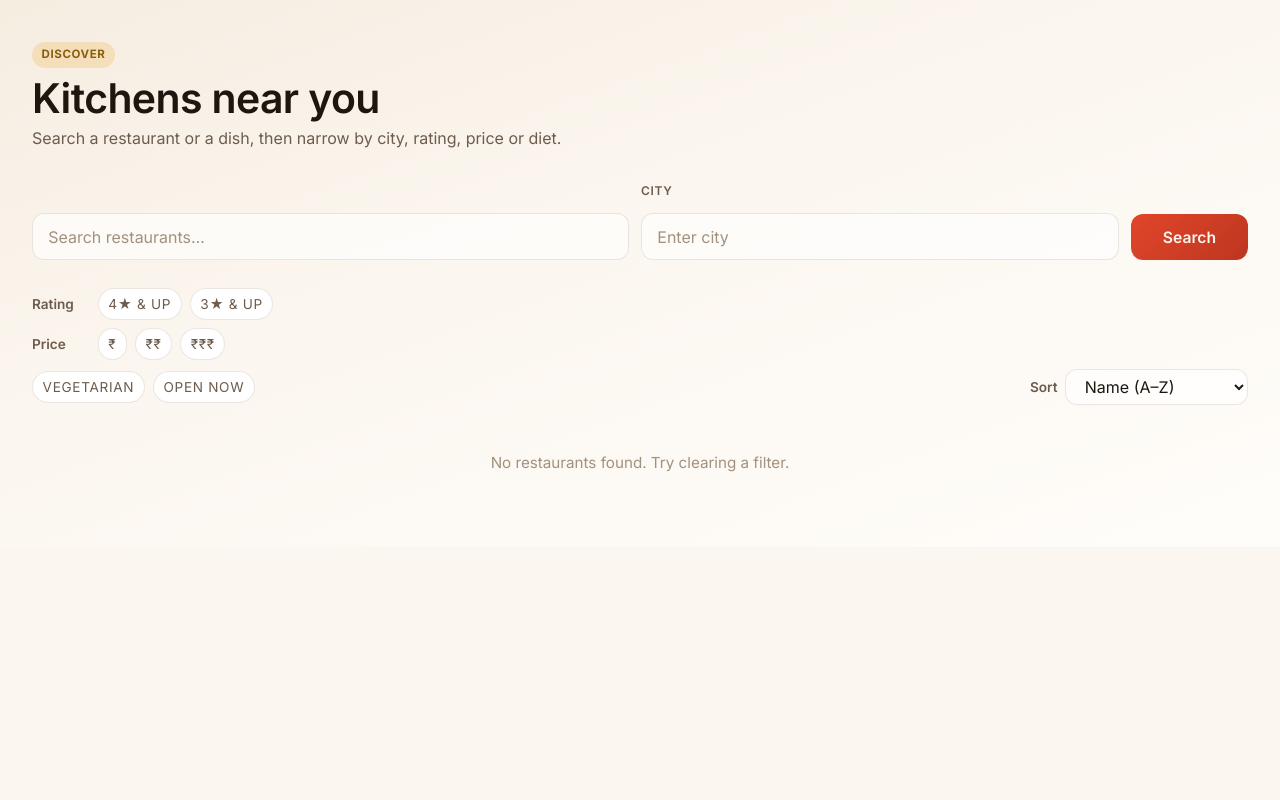
Test: RestaurantsPage › the empty state names the search that found nothing
Check: the text "No restaurants found. Try clearing a filter." is shown, box left=491, top=453, right=789, bottom=472
In the dropdown labelled "Search restaurants…": coordinates (331, 236) left=32, top=213, right=629, bottom=260, type "biryani"
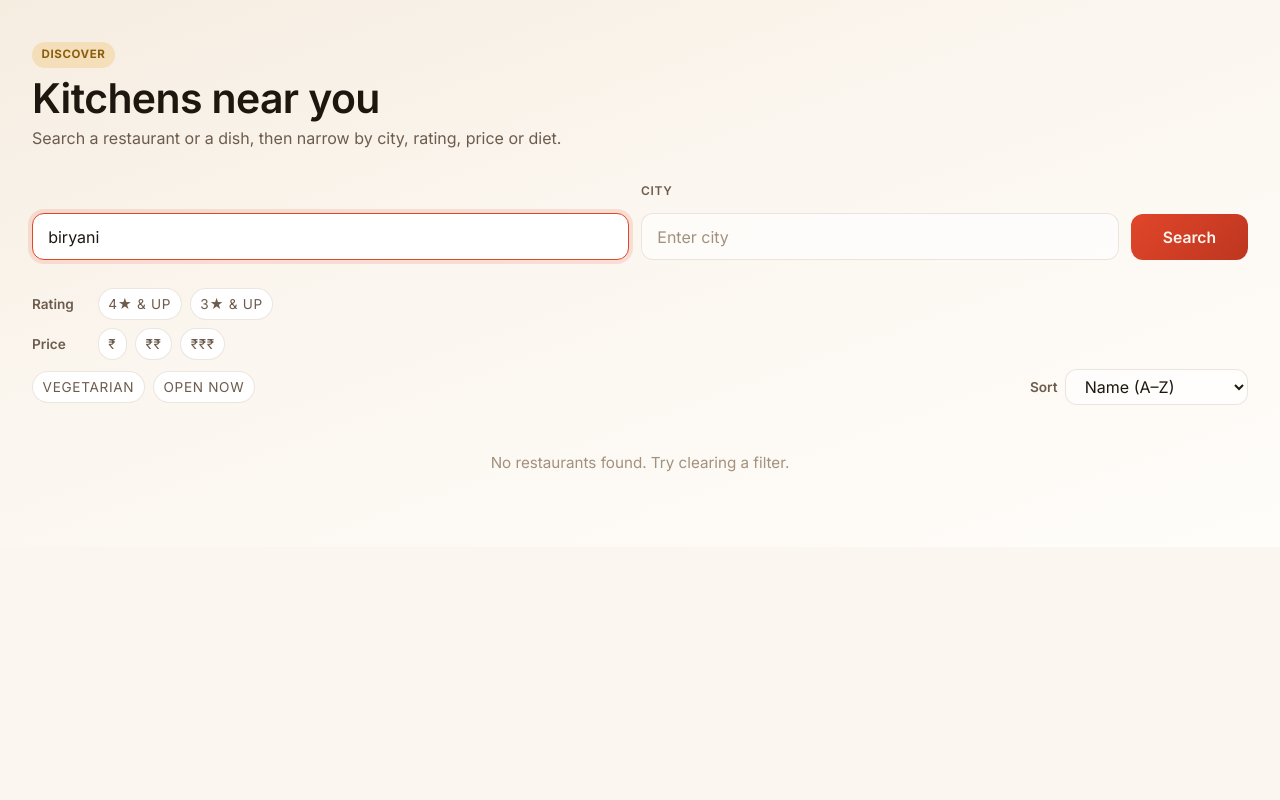
Click the button "Search": coordinates (1189, 237) left=1131, top=214, right=1248, bottom=260
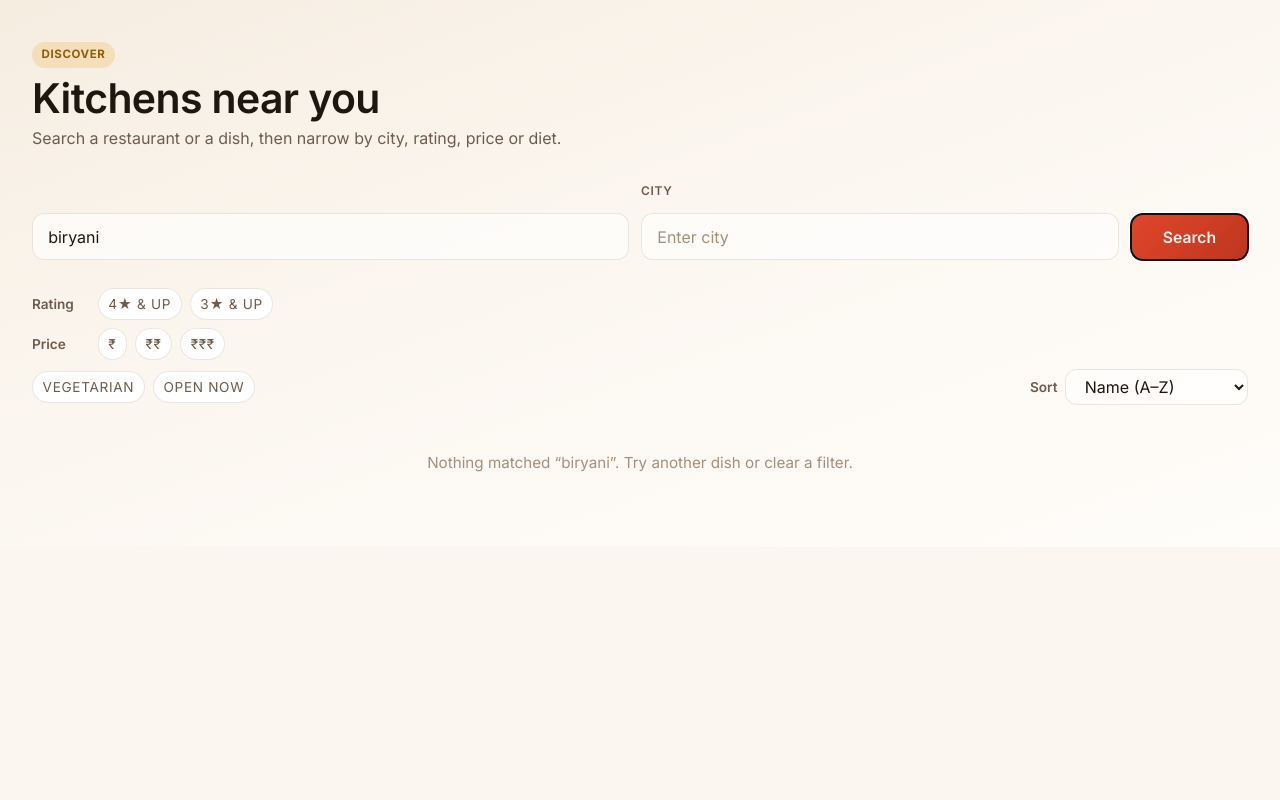
Check: the text "Nothing matched .biryani." is shown, box left=427, top=453, right=853, bottom=472
